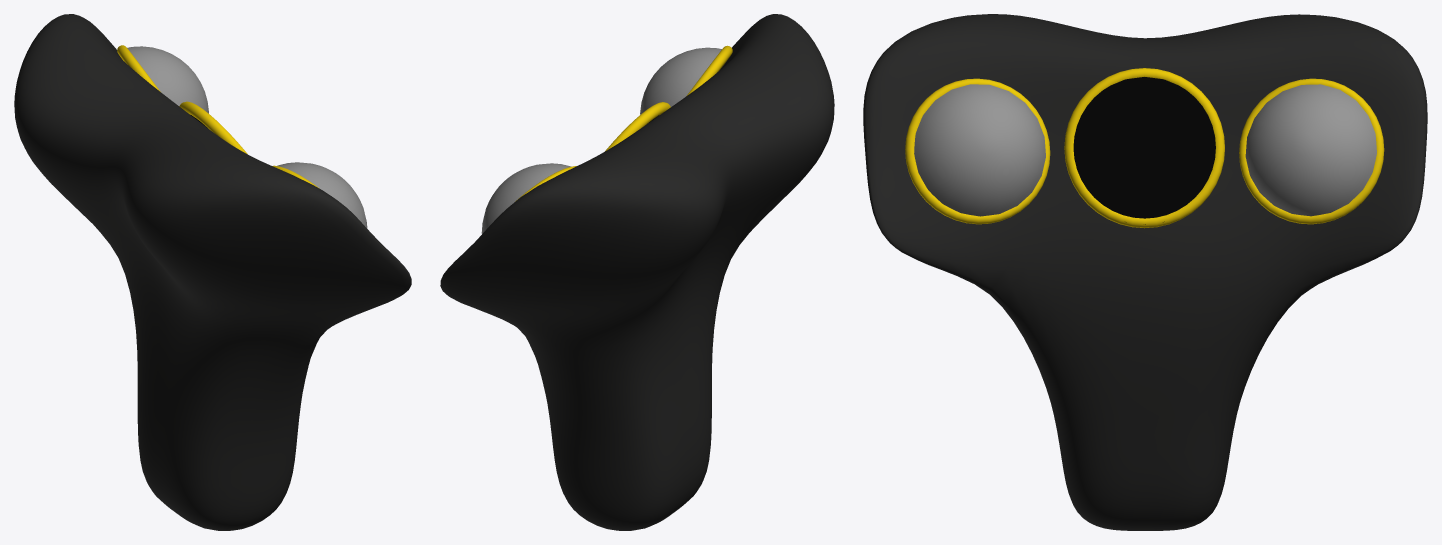
Rendered from ControlPanel.fbx.
The picture shows the model from 3 angles, left to right: view 1: azimuth 30°, elevation 25°; view 2: azimuth 150°, elevation 25°; view 3: azimuth 270°, elevation 25°; orthographic projection. The views are drawn at different scales.
Parts seen in each view (by area): view 1: controlPanelBase, rightButton, leftButton, sonarOutline; view 2: controlPanelBase, leftButton, rightButton, sonarOutline, leftButtonOutline; view 3: controlPanelBase, sonarDisplay, leftButton, rightButton, sonarOutline, rightButtonOutline, leftButtonOutline.
Boxes of the visible parts, x1=… form: controlPanelBase: x1=14, y1=14, x2=411, y2=530; rightButton: x1=127, y1=46, x2=208, y2=113; leftButton: x1=277, y1=162, x2=367, y2=228; sonarOutline: x1=179, y1=101, x2=247, y2=154; controlPanelBase: x1=440, y1=14, x2=834, y2=530; leftButton: x1=640, y1=47, x2=721, y2=114; rightButton: x1=481, y1=163, x2=570, y2=233; sonarOutline: x1=605, y1=102, x2=670, y2=151; leftButtonOutline: x1=686, y1=45, x2=732, y2=96; controlPanelBase: x1=863, y1=14, x2=1427, y2=530; sonarDisplay: x1=1073, y1=77, x2=1215, y2=224; leftButton: x1=914, y1=84, x2=1045, y2=216; rightButton: x1=1245, y1=84, x2=1376, y2=216; sonarOutline: x1=1064, y1=68, x2=1224, y2=228; rightButtonOutline: x1=1239, y1=78, x2=1384, y2=224; leftButtonOutline: x1=905, y1=78, x2=1050, y2=224.
Size of the model in its own units: 1.27 by 2.48 by 2.73.
